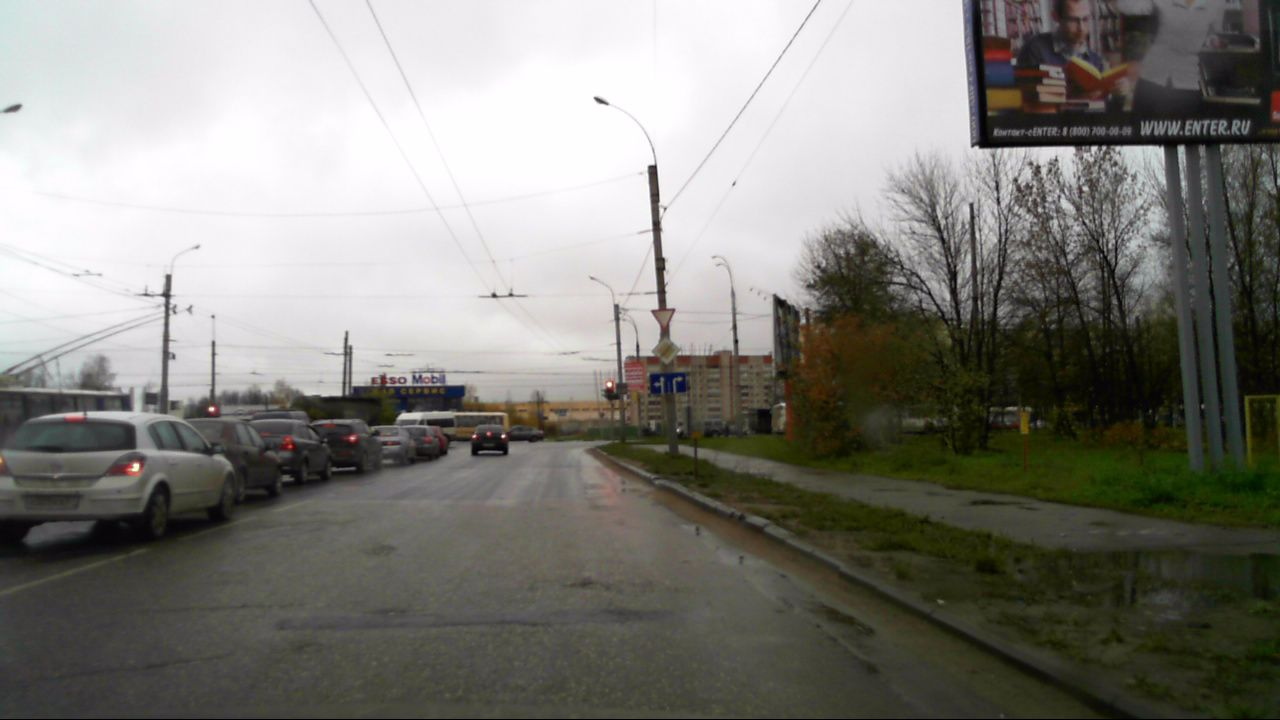main road: (651, 336, 680, 364)
